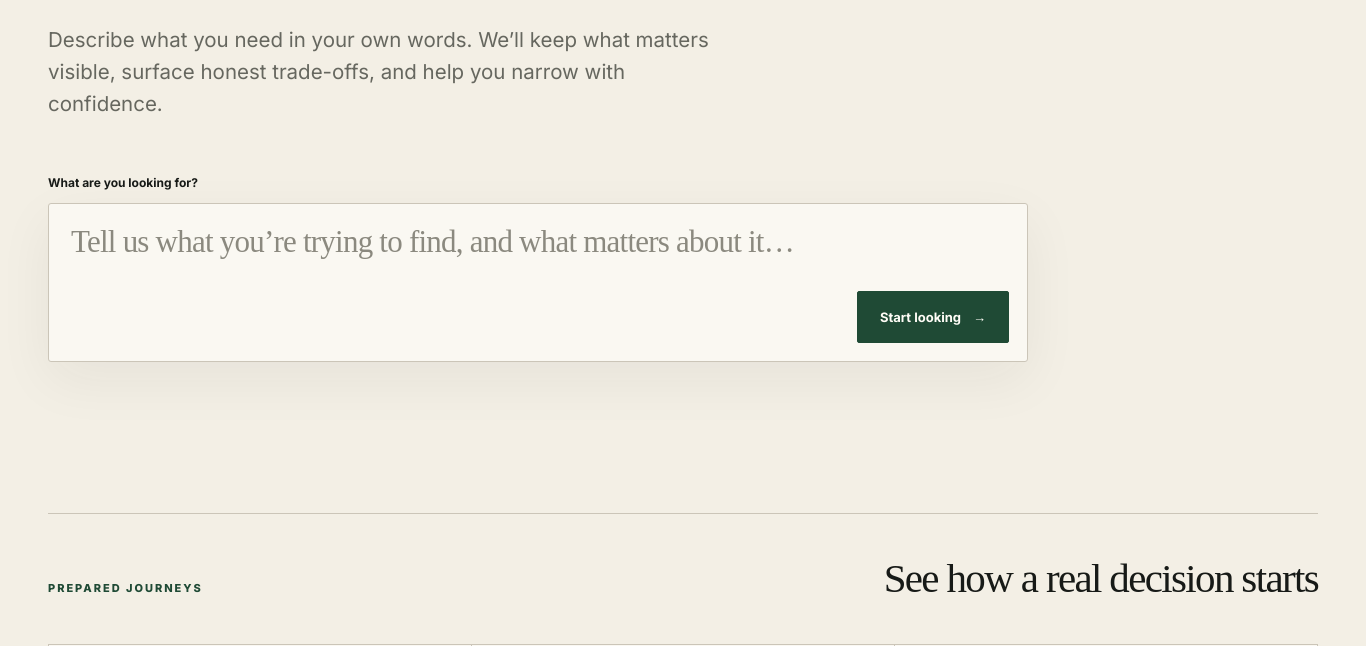
Test: ShoppingPreview › states the prepared-journey limit instead of pretending arbitrary input was searched
(page scrolled)
Step 1. Replace the text in the text box labelled "What are you looking for?" with "Find me a toaster" → (464, 283), box [71,222,857,343]
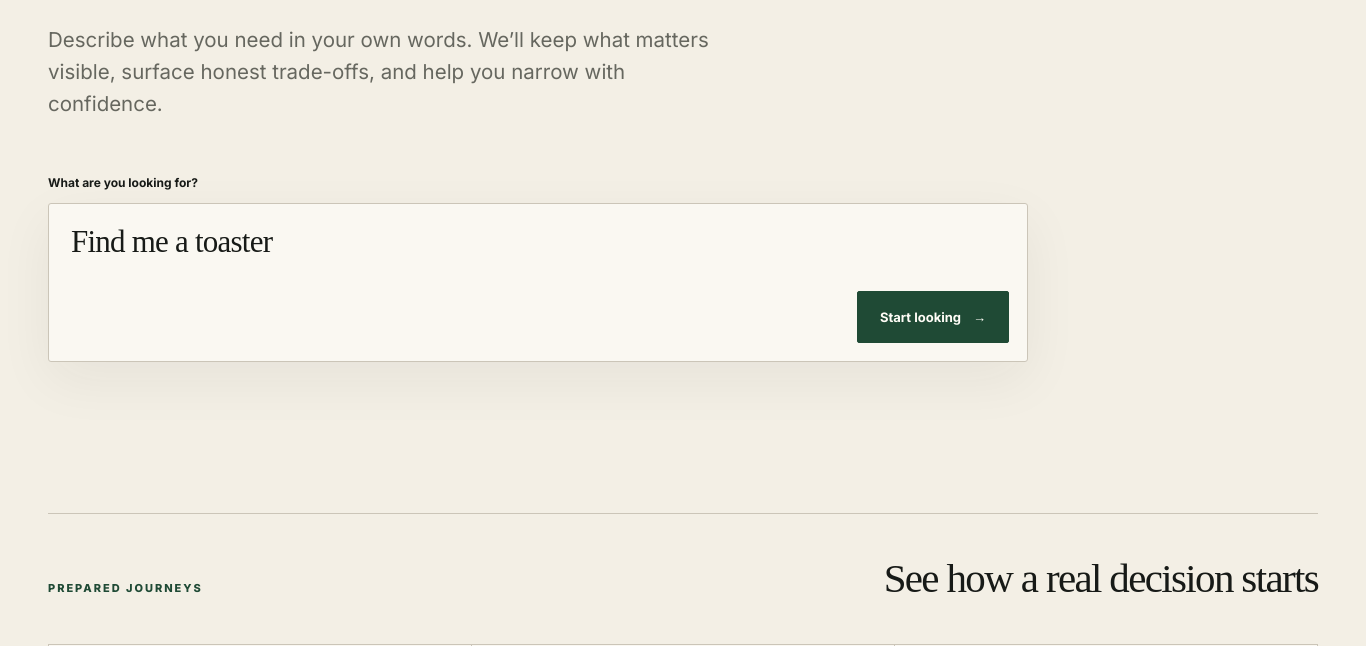
Step 2. Click the button "Start looking →" → (933, 317), box [857,291,1009,343]
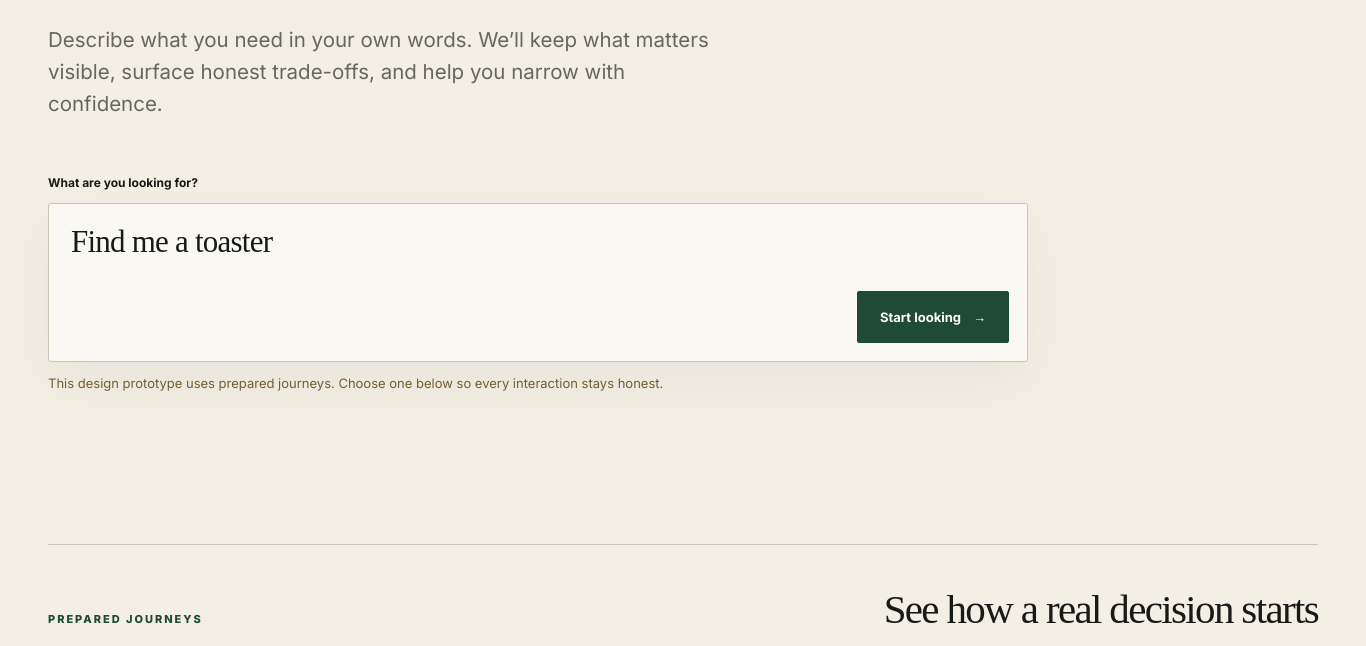
Now the text "This design prototype uses prepared journeys" is shown, box [48,375,663,391]
